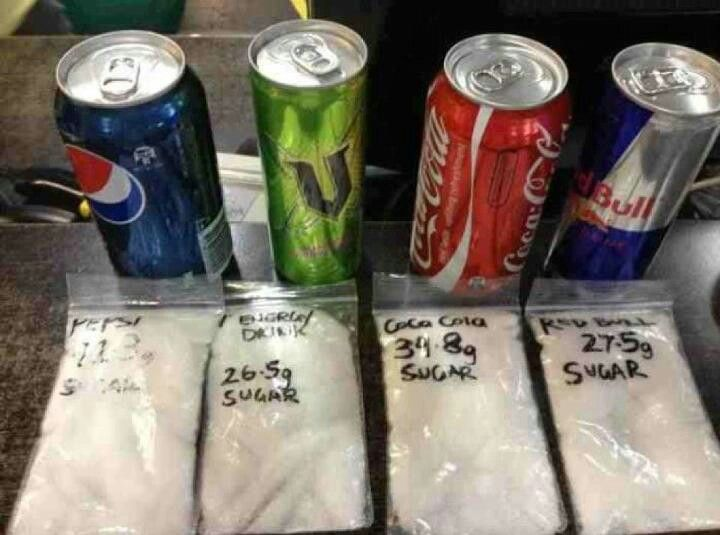can: (54, 28, 243, 290), (408, 27, 571, 296), (245, 17, 378, 286)
